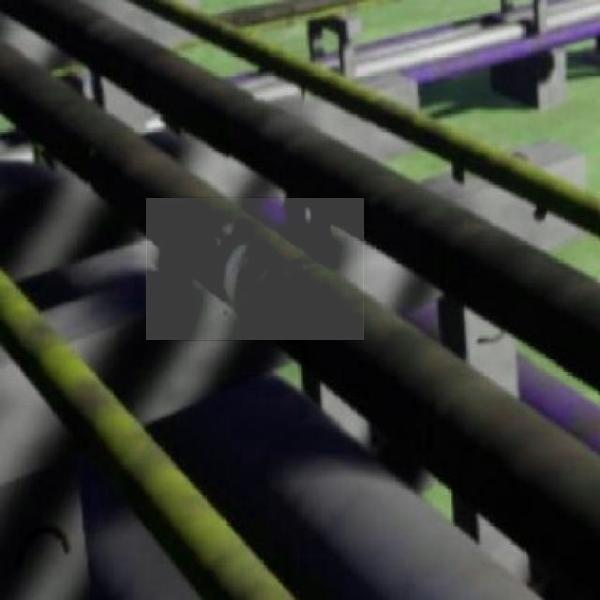gas: (146, 198, 364, 340)
